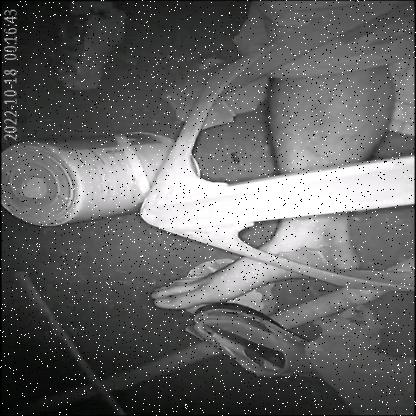leg: (136, 72, 404, 320)
